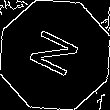N_SE: (23, 26, 87, 84)
